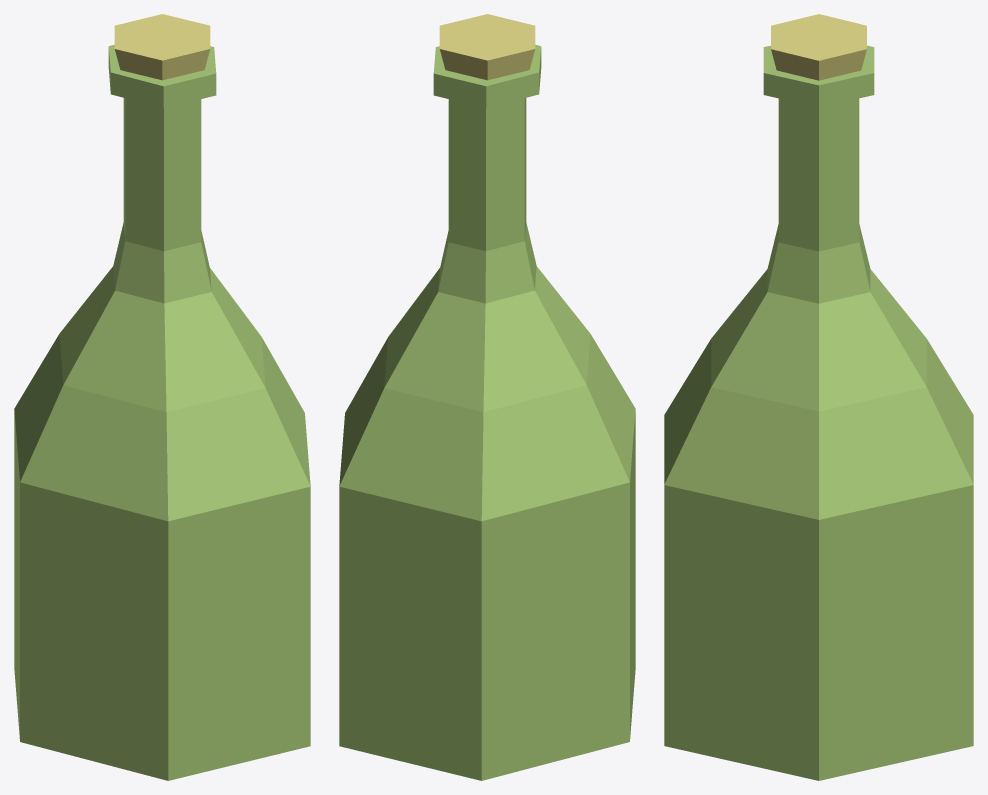
Rendered from Bottle_4.fbx.
3 views of the same model, side by side, from view 1: azimuth 30°, elevation 25°; view 2: azimuth 150°, elevation 25°; view 3: azimuth 270°, elevation 25° (orthographic).
Parts seen in each view (by area): view 1: Bottle_4; view 2: Bottle_4; view 3: Bottle_4.
Boxes of the visible parts, bbox=[...] form: Bottle_4: bbox=[14, 14, 310, 780]; Bottle_4: bbox=[339, 14, 635, 780]; Bottle_4: bbox=[664, 14, 973, 780].
Bounding box in the file's own units: 15.44 × 34.7 × 14.45.
1 material, 1 textured.
